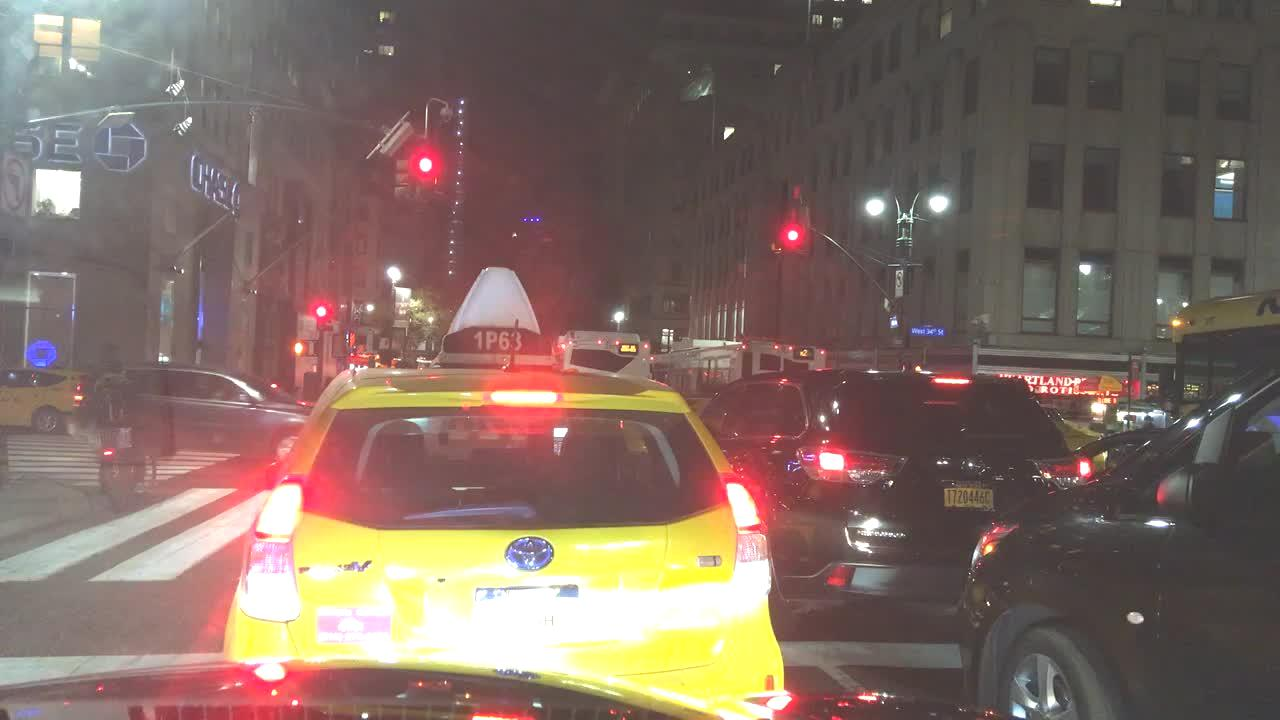Toyota: (491, 527, 574, 590)
